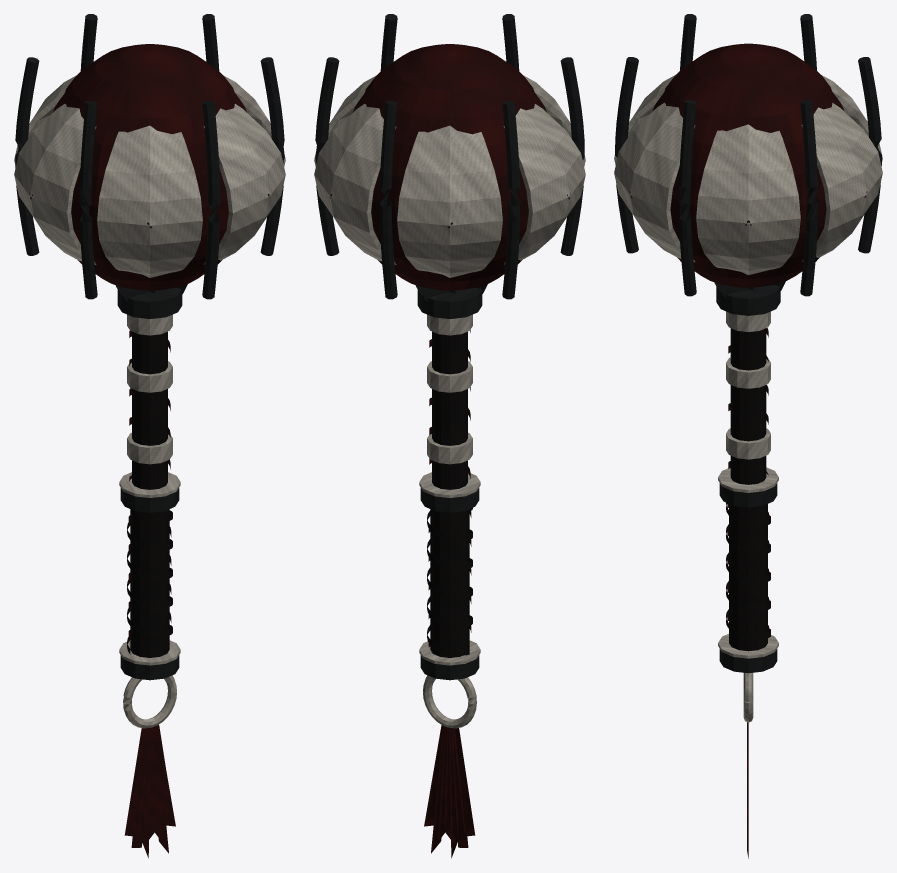
Rendered from missing-court-lotus-focus.glb.
The picture shows the model from 3 angles, left to right: view 1: azimuth 30°, elevation 25°; view 2: azimuth 150°, elevation 25°; view 3: azimuth 270°, elevation 25°; orthographic projection.
Visible parts, largest first — view 1: Deep_red_crown_interior, Pale_forged_crown_leaf_4, Pale_forged_crown_leaf_3, Pale_forged_crown_leaf_5, Dark_grip, Long_focus_grip, Dark_external_crown_rib_3, Dark_external_crown_rib_4, Dark_external_crown_rib_5, Dark_external_crown_rib_2, Crossing_black_wrap, Lotus_throat (+19 smaller); view 2: Deep_red_crown_interior, Pale_forged_crown_leaf_2, Pale_forged_crown_leaf_1, Pale_forged_crown_leaf_3, Dark_grip, Long_focus_grip, Dark_external_crown_rib_2, Dark_external_crown_rib_1, Dark_external_crown_rib_3, Dark_external_crown_rib_0, Crossing_black_wrap, Lotus_throat (+19 smaller); view 3: Deep_red_crown_interior, Pale_forged_crown_leaf_0, Pale_forged_crown_leaf_5, Pale_forged_crown_leaf_1, Dark_grip, Long_focus_grip, Dark_external_crown_rib_0, Dark_external_crown_rib_5, Dark_external_crown_rib_4, Dark_external_crown_rib_1, Lotus_throat, Crossing_black_wrap (+12 smaller).
Boxes of the visible parts, x1,y1,x2,y2 form: Deep_red_crown_interior: (53,44,246,290); Pale_forged_crown_leaf_4: (97,125,202,277); Pale_forged_crown_leaf_3: (14,104,96,264); Pale_forged_crown_leaf_5: (203,104,285,264); Dark_grip: (130,509,169,657); Long_focus_grip: (132,331,167,489); Dark_external_crown_rib_3: (79,101,97,299); Dark_external_crown_rib_4: (202,101,220,299); Dark_external_crown_rib_5: (260,57,284,255); Dark_external_crown_rib_2: (15,57,39,255); Crossing_black_wrap: (127,509,172,654); Lotus_throat: (117,287,182,318); Deep_red_crown_interior: (353,44,546,290); Pale_forged_crown_leaf_2: (397,125,502,277); Pale_forged_crown_leaf_1: (314,104,396,264); Pale_forged_crown_leaf_3: (503,104,585,264); Dark_grip: (430,509,469,657); Long_focus_grip: (432,331,467,489); Dark_external_crown_rib_2: (502,101,520,299); Dark_external_crown_rib_1: (379,101,397,299); Dark_external_crown_rib_3: (560,57,584,255); Dark_external_crown_rib_0: (315,57,339,255); Crossing_black_wrap: (427,508,472,655); Lotus_throat: (417,287,482,318); Deep_red_crown_interior: (652,43,844,287); Pale_forged_crown_leaf_0: (696,124,800,275); Pale_forged_crown_leaf_5: (614,102,695,262); Pale_forged_crown_leaf_1: (801,102,882,261); Dark_grip: (729,504,767,651); Long_focus_grip: (730,328,766,484); Dark_external_crown_rib_0: (800,100,818,296); Dark_external_crown_rib_5: (678,100,696,296); Dark_external_crown_rib_4: (615,57,638,253); Dark_external_crown_rib_1: (858,57,881,253); Lotus_throat: (716,284,780,315); Crossing_black_wrap: (726,502,770,639).
Size of the model in its own units: 0.3503 by 1.13 by 0.3441.
Materials: 4 (4 with a texture image).
